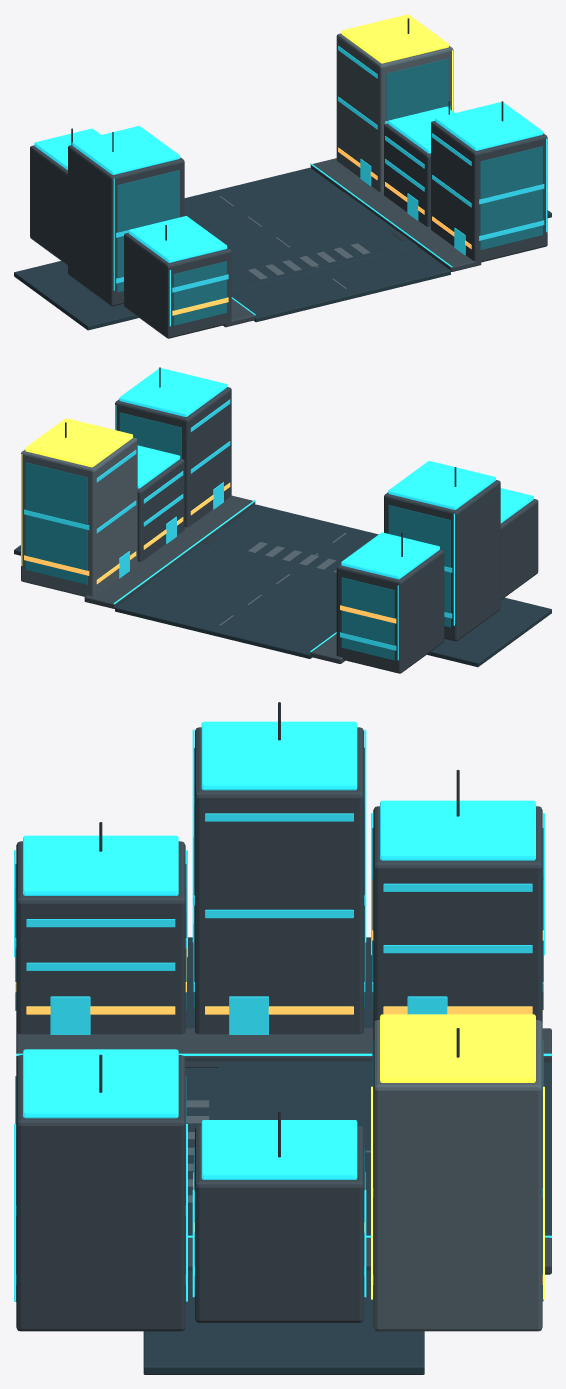
Rendered from crossroads_lod1.glb.
3 views of the same model, one above another, from view 1: azimuth 30°, elevation 25°; view 2: azimuth 150°, elevation 25°; view 3: azimuth 270°, elevation 25° (orthographic). The views are drawn at different scales.
Visible parts, largest first — view 1: ND_Batch_ND_CityConcrete, ND_Batch_ND_WetAsphalt, ND_Batch_ND_DarkGlass, ND_Batch_ND_CityCyanMuted, ND_Batch_ND_CityConcreteLight, ND_Batch_ND_RoadEdge, ND_Batch_ND_PackageGold, ND_Batch_ND_NeonGlass, ND_Batch_ND_WarmWindow; view 2: ND_Batch_ND_CityConcrete, ND_Batch_ND_WetAsphalt, ND_Batch_ND_DarkGlass, ND_Batch_ND_CityCyanMuted, ND_Batch_ND_CityConcreteLight, ND_Batch_ND_RoadEdge, ND_Batch_ND_PackageGold, ND_Batch_ND_NeonGlass, ND_Batch_ND_WarmWindow; view 3: ND_Batch_ND_CityConcrete, ND_Batch_ND_CityCyanMuted, ND_Batch_ND_CityConcreteLight, ND_Batch_ND_WetAsphalt, ND_Batch_ND_NeonGlass, ND_Batch_ND_PackageGold, ND_Batch_ND_RoadEdge, ND_Batch_ND_WarmWindow, ND_Batch_ND_DarkGlass, ND_Batch_ND_RooftopMetal.
Part boxes in pixels (x1,y1,x2,y2): ND_Batch_ND_CityConcrete: (30,121,547,338); ND_Batch_ND_WetAsphalt: (14,167,551,330); ND_Batch_ND_DarkGlass: (117,58,542,325); ND_Batch_ND_CityCyanMuted: (34,102,547,326); ND_Batch_ND_CityConcreteLight: (219,33,453,288); ND_Batch_ND_RoadEdge: (223,158,481,327); ND_Batch_ND_PackageGold: (341,14,453,111); ND_Batch_ND_NeonGlass: (116,46,544,292); ND_Batch_ND_WarmWindow: (172,147,471,315); ND_Batch_ND_CityConcrete: (115,387,538,673); ND_Batch_ND_WetAsphalt: (14,504,551,667); ND_Batch_ND_DarkGlass: (25,412,450,660); ND_Batch_ND_CityCyanMuted: (113,368,533,660); ND_Batch_ND_CityConcreteLight: (21,437,346,625); ND_Batch_ND_RoadEdge: (84,495,345,663); ND_Batch_ND_PackageGold: (21,418,132,565); ND_Batch_ND_NeonGlass: (24,399,452,650); ND_Batch_ND_WarmWindow: (24,482,396,623); ND_Batch_ND_CityConcrete: (16,727,542,1331); ND_Batch_ND_CityCyanMuted: (14,721,551,1301); ND_Batch_ND_CityConcreteLight: (186,1020,542,1331); ND_Batch_ND_WetAsphalt: (143,937,551,1374); ND_Batch_ND_NeonGlass: (15,813,543,1284); ND_Batch_ND_PackageGold: (371,1014,544,1299); ND_Batch_ND_RoadEdge: (16,1028,551,1274); ND_Batch_ND_WarmWindow: (15,880,543,1284); ND_Batch_ND_DarkGlass: (15,747,543,1301); ND_Batch_ND_RooftopMetal: (99,702,459,1235).
Size of the model in its own units: 38 by 12.33 by 20.09.
